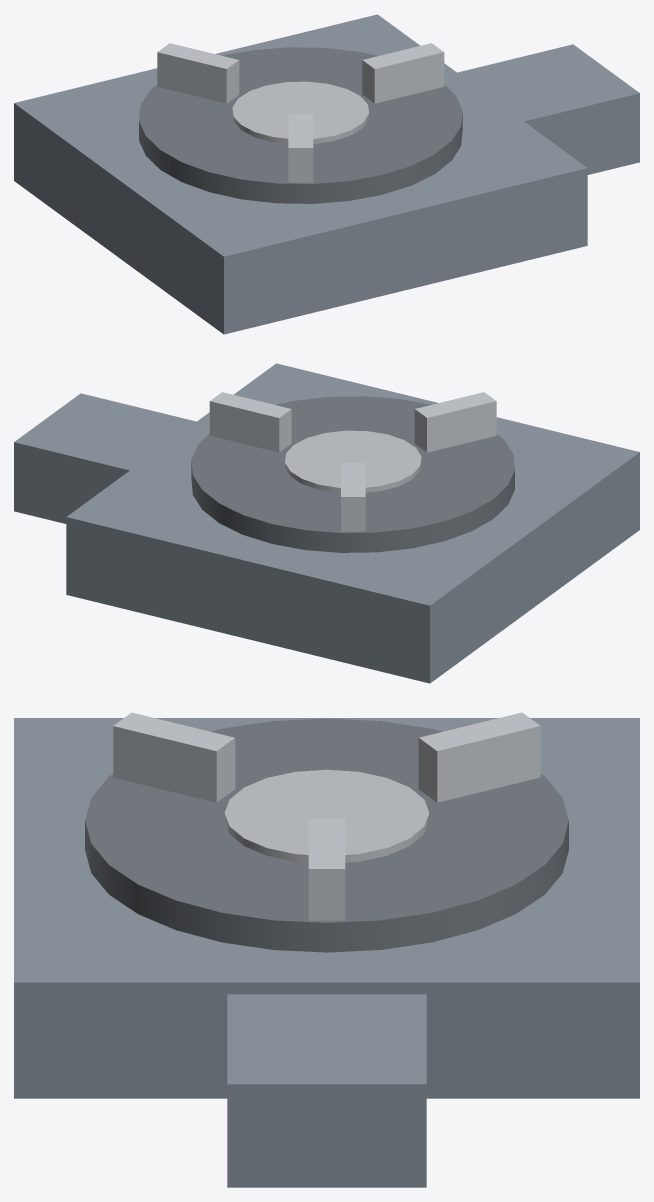
File: rotary.glb
3 views of the same model, one above another, from view 1: azimuth 30°, elevation 25°; view 2: azimuth 150°, elevation 25°; view 3: azimuth 270°, elevation 25° (orthographic). The views are drawn at different scales.
Bounding box in the file's own units: 2.95 × 0.765 × 2.2.
